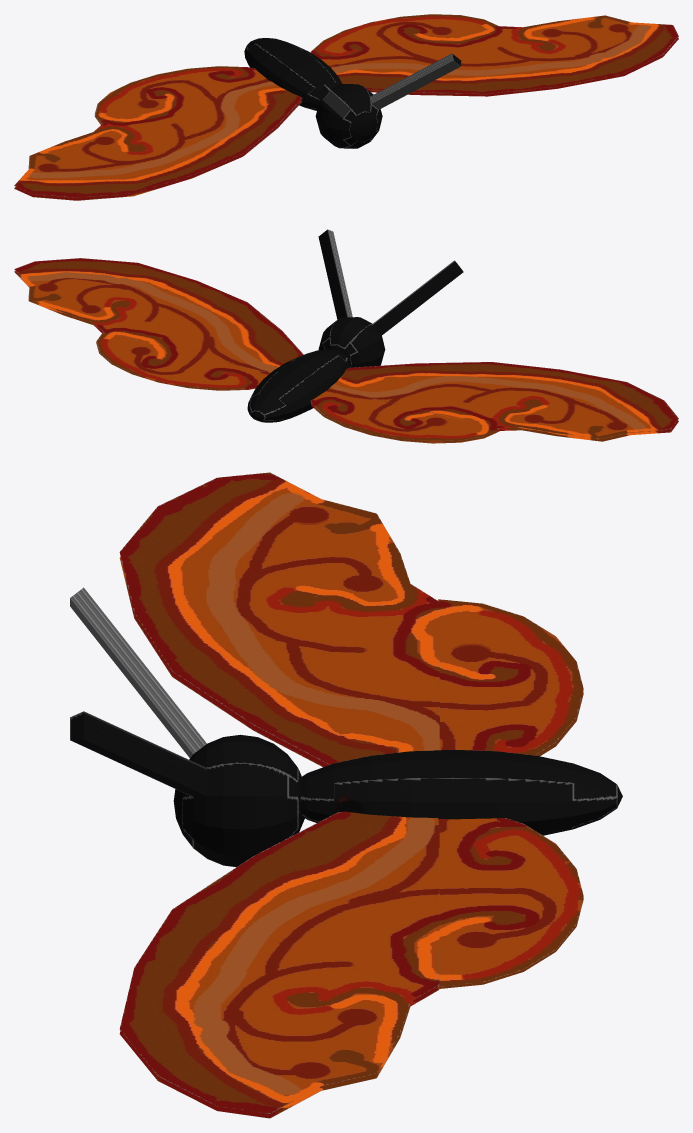
Rendered from Butterfly.fbx.
3 views of the same model, one above another, from view 1: azimuth 30°, elevation 25°; view 2: azimuth 150°, elevation 25°; view 3: azimuth 270°, elevation 25° (orthographic). The views are drawn at different scales.
Parts seen in each view (by area): view 1: Butterfly; view 2: Butterfly; view 3: Butterfly.
Part boxes in pixels (left/top/right/bottom): Butterfly: left=14, top=14, right=678, bottom=200; Butterfly: left=14, top=229, right=678, bottom=443; Butterfly: left=70, top=472, right=622, bottom=1118.
Size of the model in its own units: 22.73 by 3.51 by 8.28.
